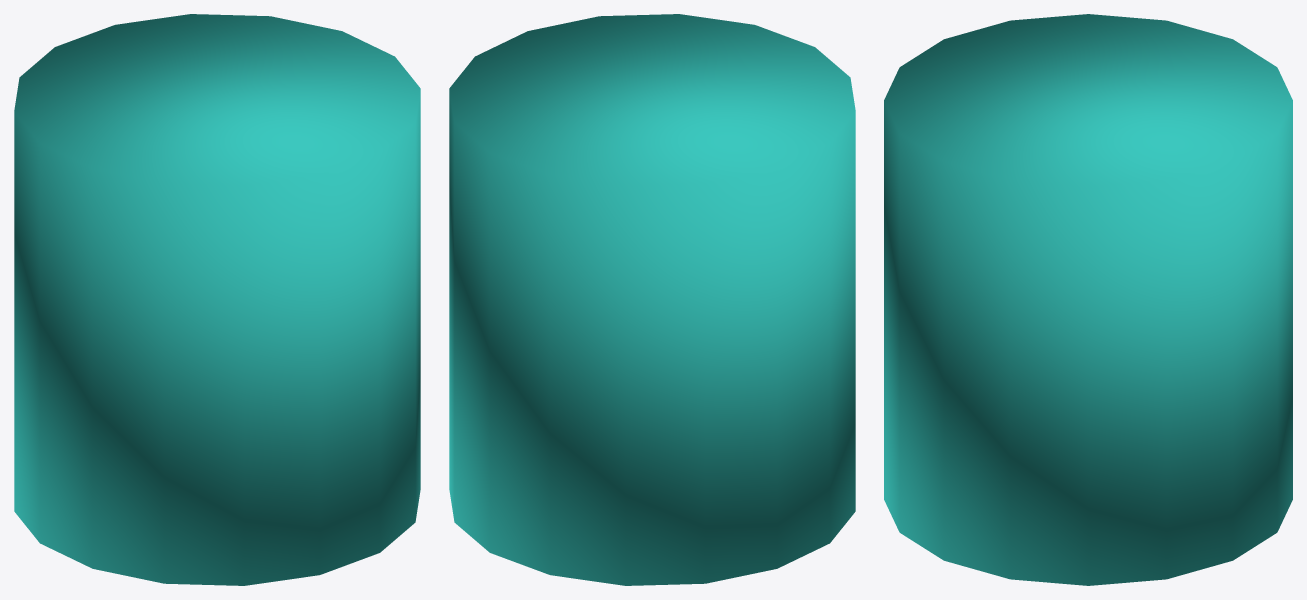
File: cylinder-lite.glb
The picture shows the model from 3 angles, left to right: view 1: azimuth 30°, elevation 25°; view 2: azimuth 150°, elevation 25°; view 3: azimuth 270°, elevation 25°; orthographic projection.
Parts seen in each view (by area): view 1: Cylinder; view 2: Cylinder; view 3: Cylinder.
Part boxes in pixels (x1,y1,x2,y2): Cylinder: (14,14,420,585); Cylinder: (449,14,855,585); Cylinder: (884,14,1292,585).
Bounding box in the file's own units: 1.3 × 1.4 × 1.3.
